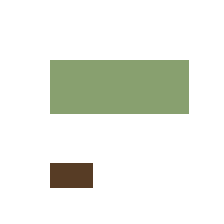rectangle: (50, 60, 188, 113), (50, 163, 92, 187)
